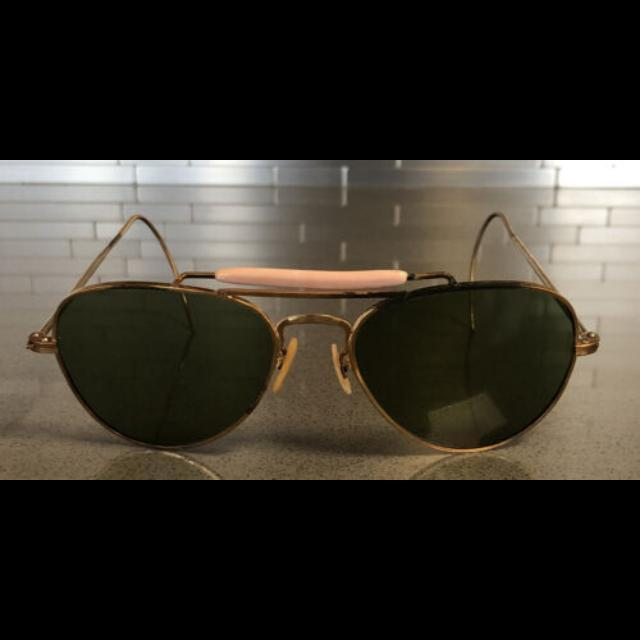sunglasses: (27, 212, 601, 452)
